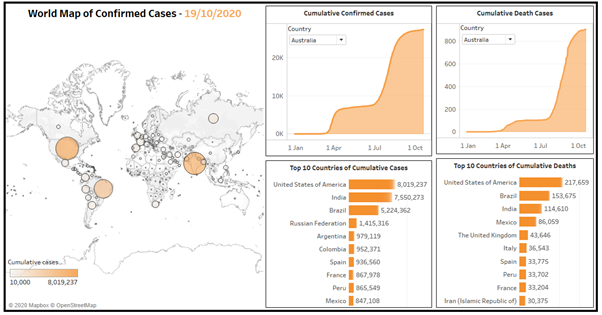

The page's visual inventory and layout, read from the dashboard file:
{"tool":"tableau","page":{"name":"Dashboard 1","canvas":[1150,600],"ordinal":0},"visuals":[{"type":"worksheet","param":"horz","box":[1,1,1150,600]},{"type":"worksheet","title":"WorldMap","mark":"Automatic","box":[5,5,499,592]},{"type":"worksheet","param":"vert","box":[504,5,330,592]},{"type":"worksheet","title":"CasesLine","mark":"Automatic","rows":["Cumulative_cases","Cumulative_cases"],"cols":["Date_reported"],"box":[504,5,330,299]},{"type":"worksheet","param":"vert","box":[834,5,313,592]},{"type":"worksheet","title":"DeathsLine","mark":"Automatic","rows":["Cumulative_deaths","Cumulative_deaths"],"cols":["Date_reported"],"box":[834,5,313,295]},{"type":"worksheet","title":"DeathsLine","mark":"Automatic","rows":["Cumulative_deaths","Cumulative_deaths"],"cols":["Date_reported"],"param":"[federated.0l404kd1gmzajp1dz1pi51a946of].[none:Country:nk]","box":[885,43,109,45]},{"type":"worksheet","title":"CasesLine","mark":"Automatic","rows":["Cumulative_cases","Cumulative_cases"],"cols":["Date_reported"],"param":"[federated.0l404kd1gmzajp1dz1pi51a946of].[none:Country:nk]","box":[551,45,116,43]},{"type":"worksheet","title":"Top10Deaths","mark":"Automatic","rows":["Country"],"cols":["Cumulative_deaths"],"box":[834,300,313,297]},{"type":"worksheet","title":"Top10Cases","mark":"Automatic","rows":["Country"],"cols":["Cumulative_cases"],"box":[504,304,330,293]},{"type":"worksheet","title":"WorldMap","mark":"Automatic","param":"[federated.0l404kd1gmzajp1dz1pi51a946of].[sum:Cumulative_cases:qk]","box":[9,496,140,76]}]}

Visuals, with their boxes in screenshot pixels (x1, y1, x2, y2), scaled from the page's 1150x600 canvas onto the 602x315 screenshot:
worksheet: x1=1, y1=1, x2=601, y2=314
"WorldMap" worksheet: x1=3, y1=3, x2=264, y2=313
worksheet: x1=264, y1=3, x2=437, y2=313
"CasesLine" worksheet: x1=264, y1=3, x2=437, y2=160
worksheet: x1=437, y1=3, x2=600, y2=313
"DeathsLine" worksheet: x1=437, y1=3, x2=600, y2=158
"DeathsLine" worksheet: x1=463, y1=23, x2=520, y2=46
"CasesLine" worksheet: x1=288, y1=24, x2=349, y2=46
"Top10Deaths" worksheet: x1=437, y1=158, x2=600, y2=313
"Top10Cases" worksheet: x1=264, y1=160, x2=437, y2=313
"WorldMap" worksheet: x1=5, y1=260, x2=78, y2=300
